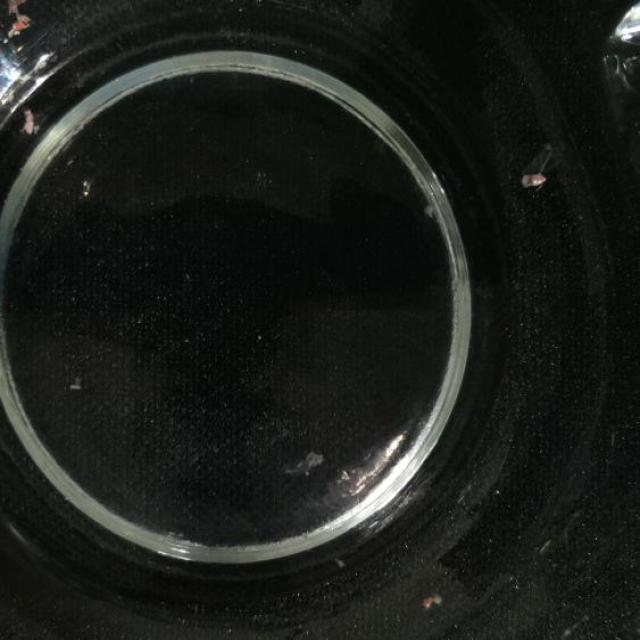fiber: (518, 166, 560, 200), (0, 6, 34, 42), (18, 95, 42, 138), (0, 0, 31, 19)
